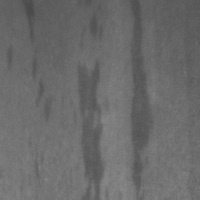inclusion: (126, 1, 153, 200), (75, 55, 107, 200), (30, 53, 53, 125), (20, 1, 39, 45), (87, 10, 105, 51), (2, 43, 18, 75)
